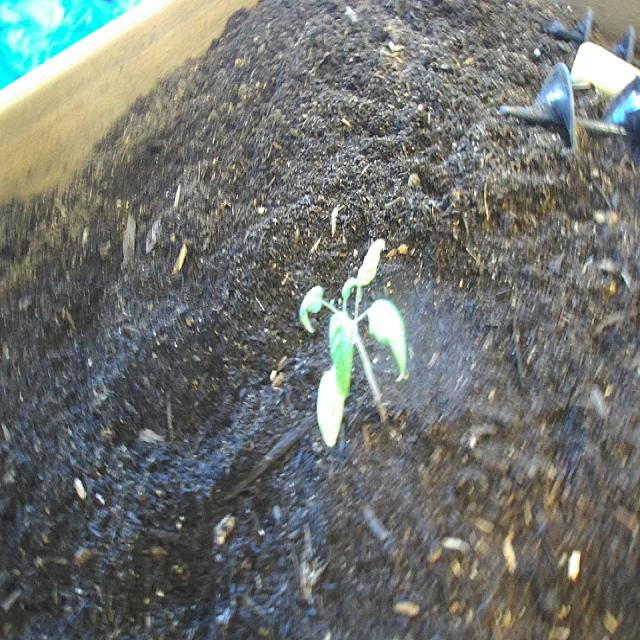Healthy: (294, 213, 430, 456)
